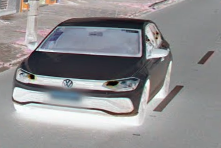car: (12, 17, 173, 125)
